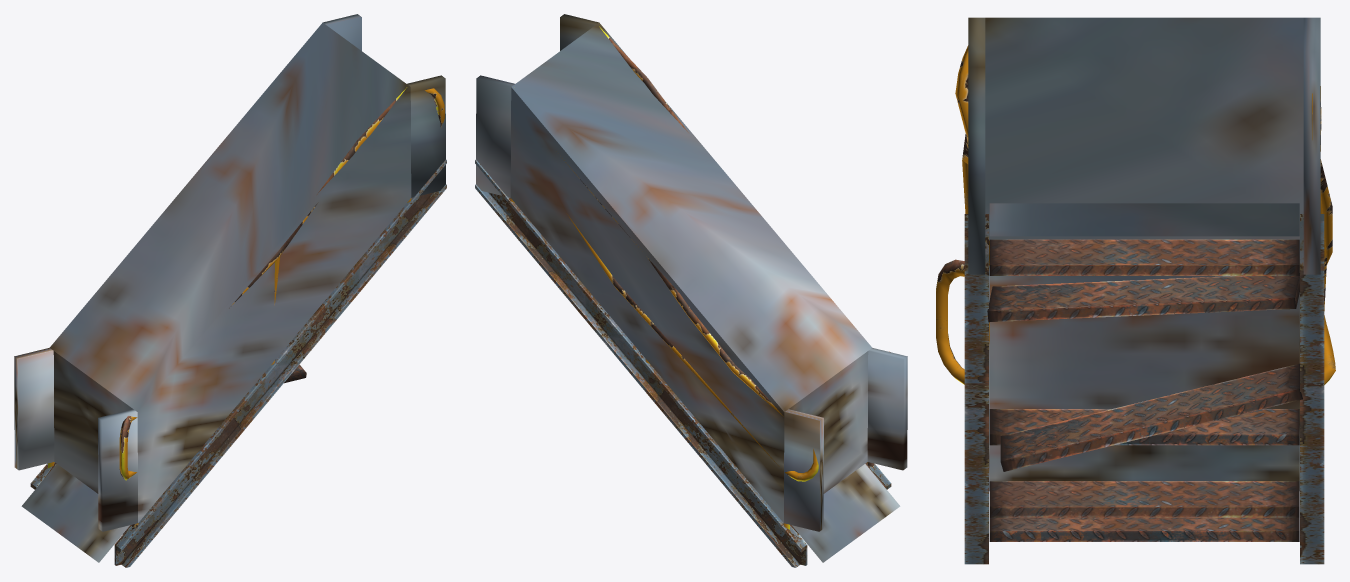
File: platform_stairs02_C.FBX
3 views of the same model, side by side, from view 1: azimuth 30°, elevation 25°; view 2: azimuth 150°, elevation 25°; view 3: azimuth 270°, elevation 25° (orthographic). The views are drawn at different scales.
Parts seen in each view (by area): view 1: platform_stairs02_C_COL, platform_stairs02_C; view 2: platform_stairs02_C_COL, platform_stairs02_C; view 3: platform_stairs02_C_COL, platform_stairs02_C.
Part boxes in pixels (x1=…): platform_stairs02_C_COL: x1=14, y1=14, x2=445, y2=562; platform_stairs02_C: x1=30, y1=87, x2=446, y2=567; platform_stairs02_C_COL: x1=476, y1=14, x2=907, y2=562; platform_stairs02_C: x1=475, y1=26, x2=891, y2=567; platform_stairs02_C_COL: x1=968, y1=17, x2=1320, y2=491; platform_stairs02_C: x1=936, y1=45, x2=1335, y2=564.
Bounding box in the file's own units: 328 × 374 × 165.
